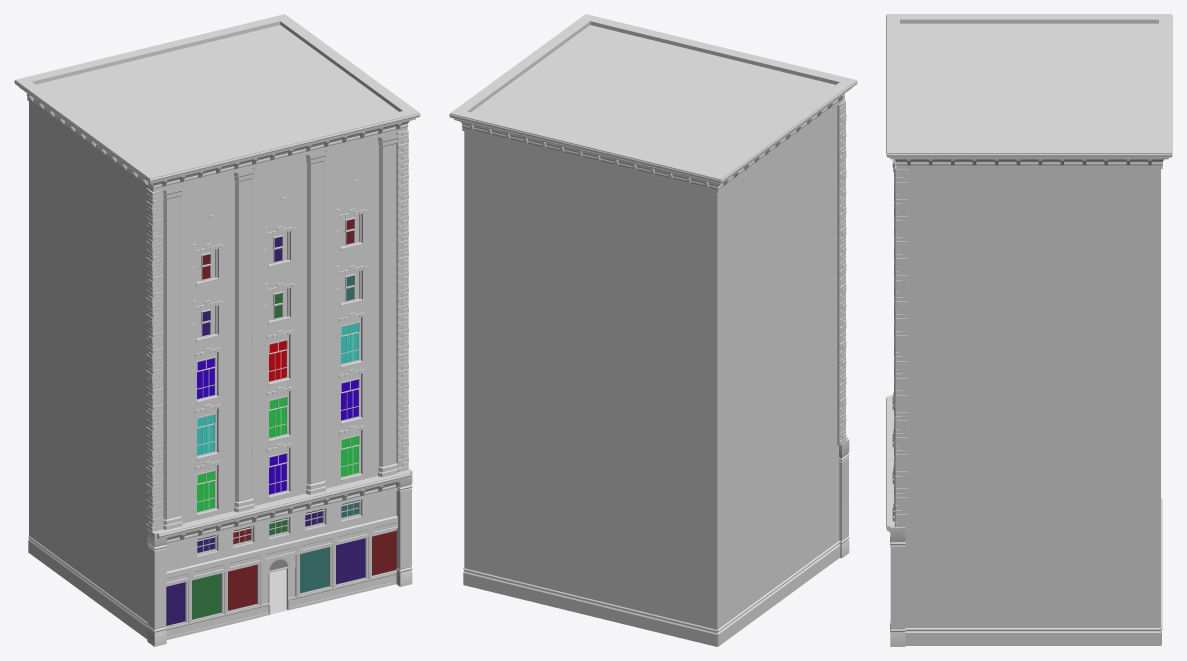
File: building_medium.glb
3 views of the same model, side by side, from view 1: azimuth 30°, elevation 25°; view 2: azimuth 150°, elevation 25°; view 3: azimuth 270°, elevation 25° (orthographic). The views are drawn at different scales.
Parts seen in each view (by area): view 1: Building_Medium_2.001; view 2: Building_Medium_2.001; view 3: Building_Medium_2.001.
Part boxes in pixels (<box>): Building_Medium_2.001: <box>14,14,420,646</box>; Building_Medium_2.001: <box>449,14,857,646</box>; Building_Medium_2.001: <box>886,14,1172,646</box>.
Bounding box in the file's own units: 15.06 × 25.01 × 13.06.
